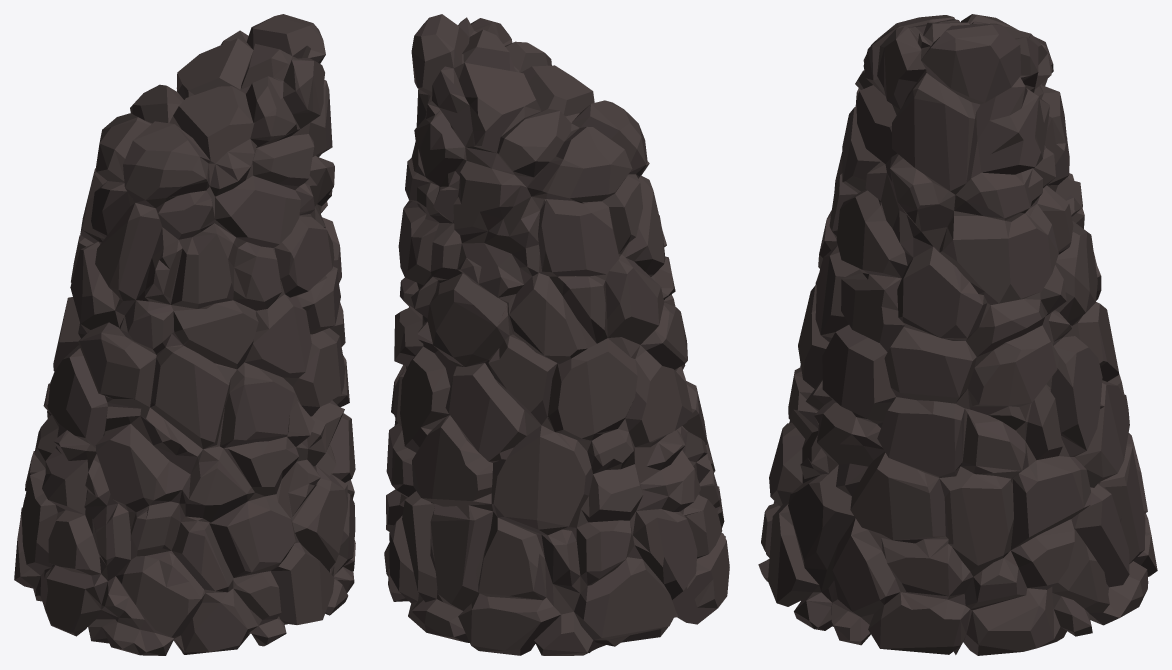
The model's file is StoneBig08.fbx.
3 views of the same model, side by side, from view 1: azimuth 30°, elevation 25°; view 2: azimuth 150°, elevation 25°; view 3: azimuth 270°, elevation 25° (orthographic). The views are drawn at different scales.
Parts seen in each view (by area): view 1: Cylinder.010; view 2: Cylinder.010; view 3: Cylinder.010.
Boxes of the visible parts, left/top/right/bottom form: Cylinder.010: left=14, top=14, right=355, bottom=655; Cylinder.010: left=384, top=14, right=729, bottom=655; Cylinder.010: left=758, top=14, right=1157, bottom=655.
Size of the model in its own units: 141 by 247 by 142.
